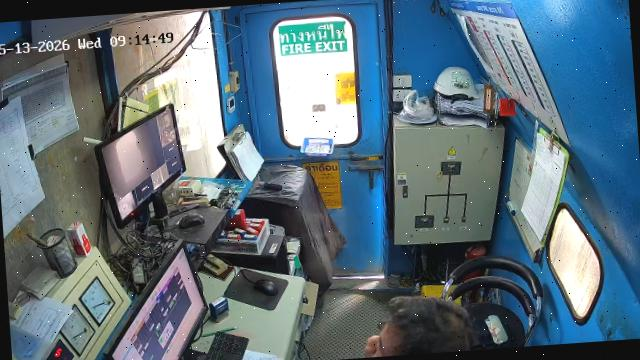Head: (365, 296, 472, 357)
